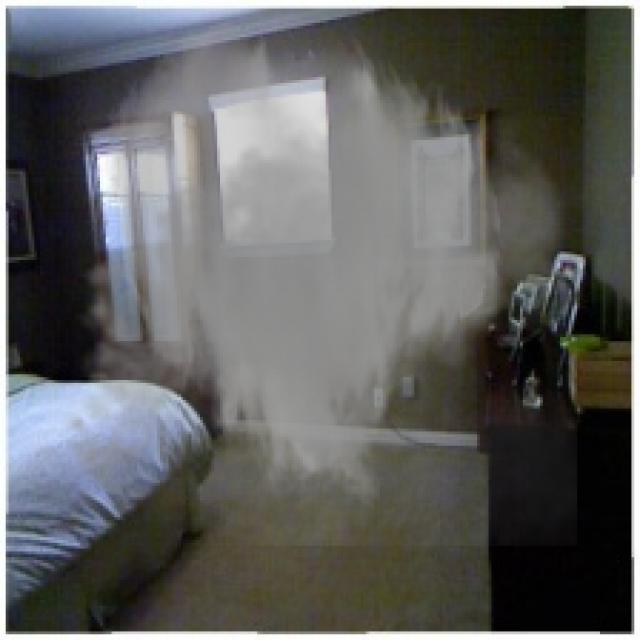Smoke: (49, 17, 578, 546)
